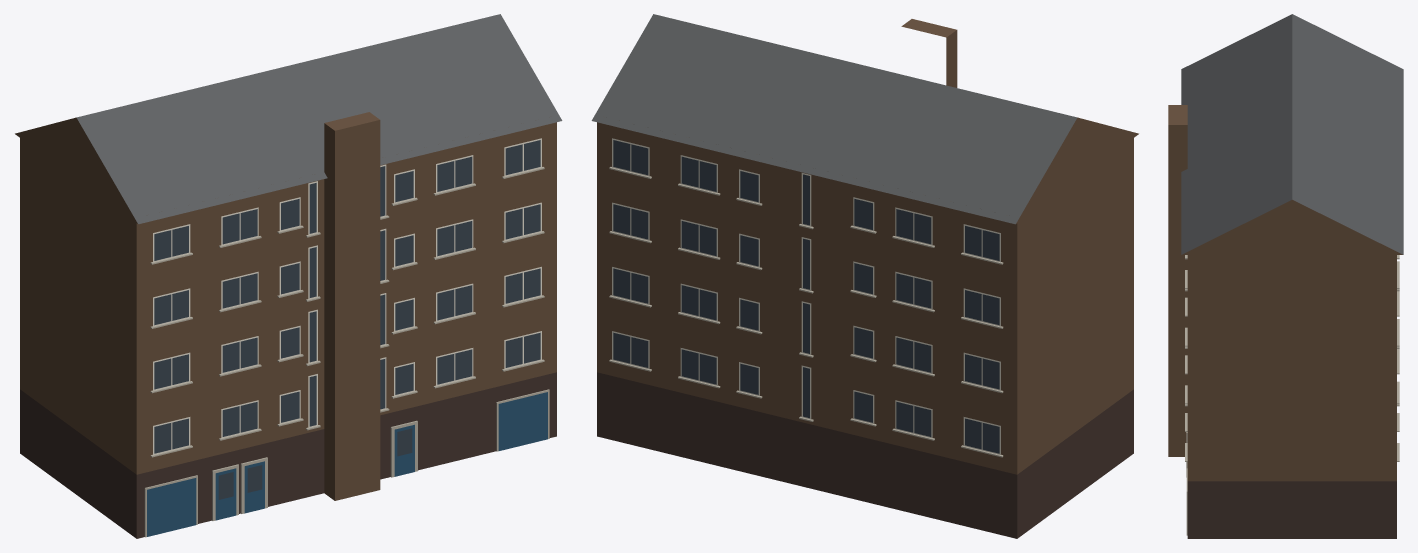
Rendered from nw-brick-tower-stair-5st__brick-tower__5__gable__long__solid.glb.
3 views of the same model, side by side, from view 1: azimuth 30°, elevation 25°; view 2: azimuth 150°, elevation 25°; view 3: azimuth 270°, elevation 25° (orthographic). The views are drawn at different scales.
Parts seen in each view (by area): view 1: nw-brick-tower-stair-5st__brick-tower__5__gable__long__solid; view 2: nw-brick-tower-stair-5st__brick-tower__5__gable__long__solid; view 3: nw-brick-tower-stair-5st__brick-tower__5__gable__long__solid.
Boxes of the visible parts, box(x1,y1,x2,y2) form: nw-brick-tower-stair-5st__brick-tower__5__gable__long__solid: box(15, 14, 562, 538); nw-brick-tower-stair-5st__brick-tower__5__gable__long__solid: box(591, 14, 1138, 538); nw-brick-tower-stair-5st__brick-tower__5__gable__long__solid: box(1168, 14, 1403, 538).
Bounding box in the file's own units: 20.62 × 17.62 × 11.03.
